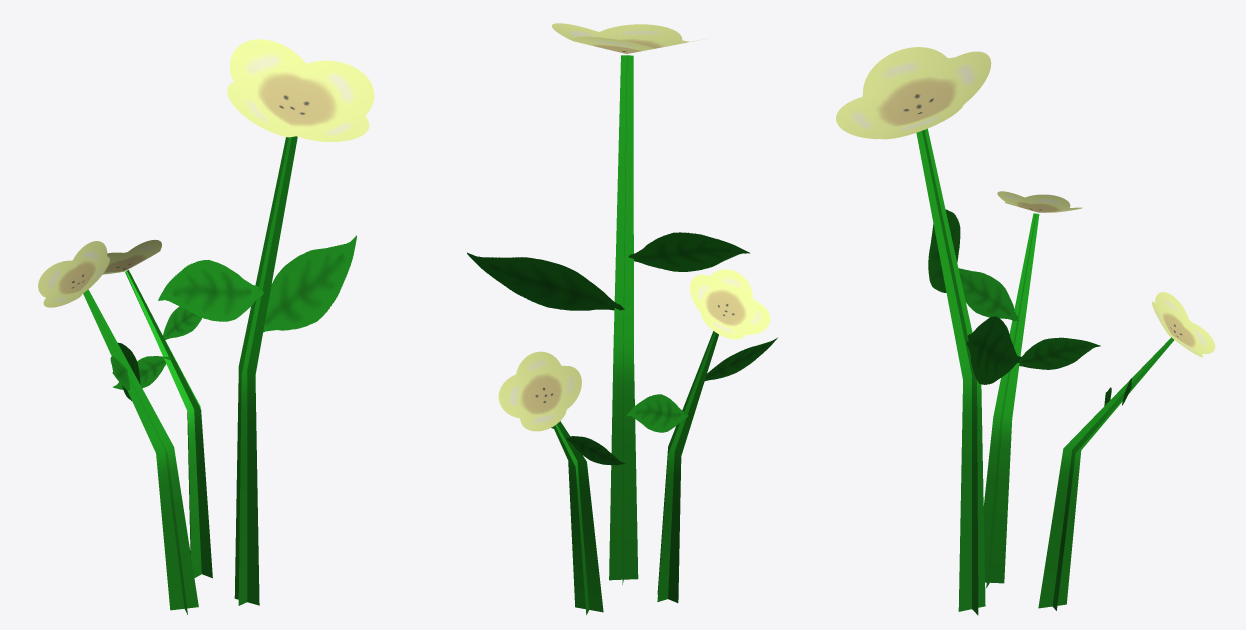
File: Flower_1.fbx
3 renders of one model, left to right at view 1: azimuth 30°, elevation 25°; view 2: azimuth 150°, elevation 25°; view 3: azimuth 270°, elevation 25°, orthographic.
Parts seen in each view (by area): view 1: Flower_1; view 2: Flower_1; view 3: Flower_1.
Boxes of the visible parts, left/top/right/bottom form: Flower_1: left=38, top=39, right=374, bottom=614; Flower_1: left=467, top=23, right=777, bottom=615; Flower_1: left=836, top=47, right=1215, bottom=615.
Size of the model in its own units: 0.5221 by 0.8447 by 0.5651.
